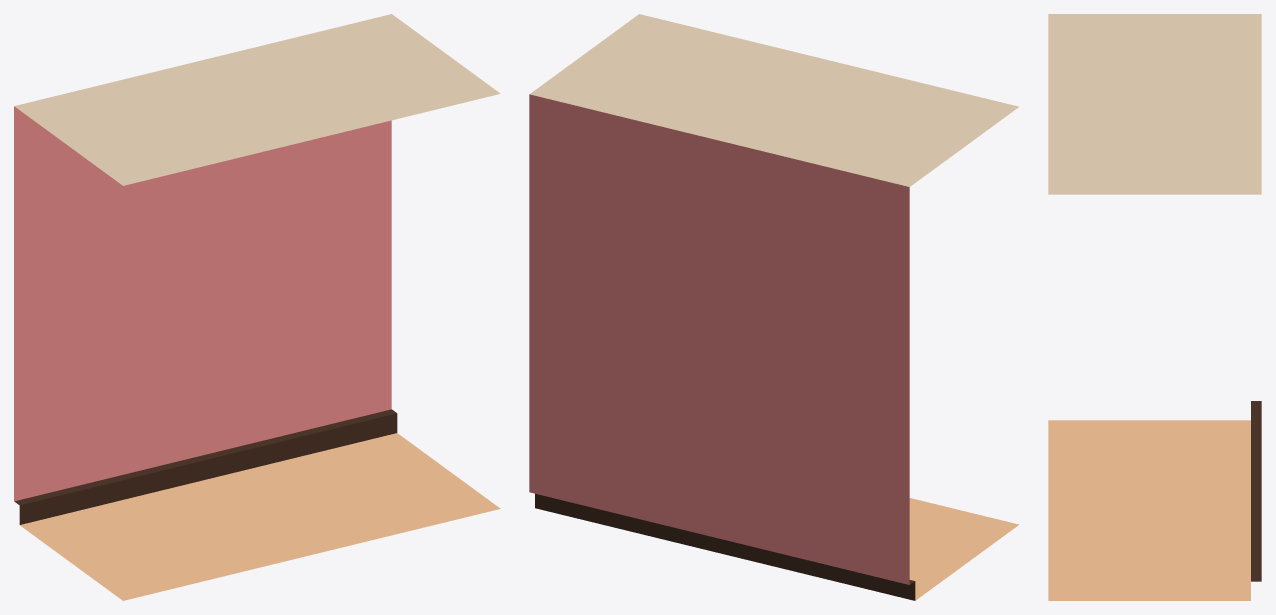
File: Couloir_Mur_1x2.fbx
The picture shows the model from 3 angles, left to right: view 1: azimuth 30°, elevation 25°; view 2: azimuth 150°, elevation 25°; view 3: azimuth 270°, elevation 25°; orthographic projection. The views are drawn at different scales.
Parts seen in each view (by area): view 1: Couloir_Mur_1x2; view 2: Couloir_Mur_1x2; view 3: Couloir_Mur_1x2.
Boxes of the visible parts, x1,y1,x2,y2 form: Couloir_Mur_1x2: (14,14,500,600); Couloir_Mur_1x2: (529,14,1018,600); Couloir_Mur_1x2: (1048,14,1261,600).
Bounding box in the file's own units: 2 × 2.1 × 1.
